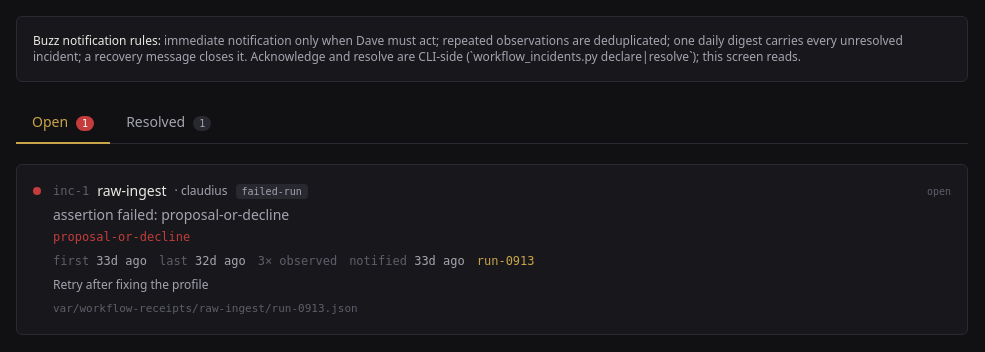
Incidents › splits open and resolved with counts and links each to its workflow and run
expect the number of elements with test id "incident" is 1: met, box [16, 164, 968, 334]
expect the tab "open1" is shown: met, box [16, 102, 110, 144]
Click the tab "resolved1": point(169, 123) [110, 102, 227, 144]
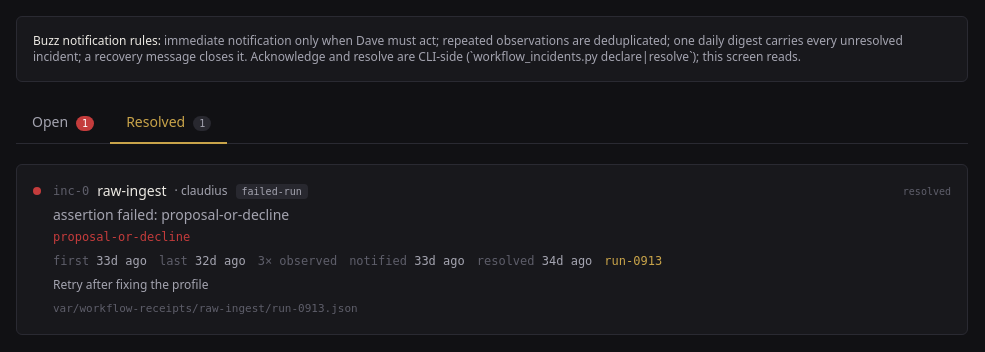
expect the text "inc-0" is shown: met, box [53, 183, 89, 199]
